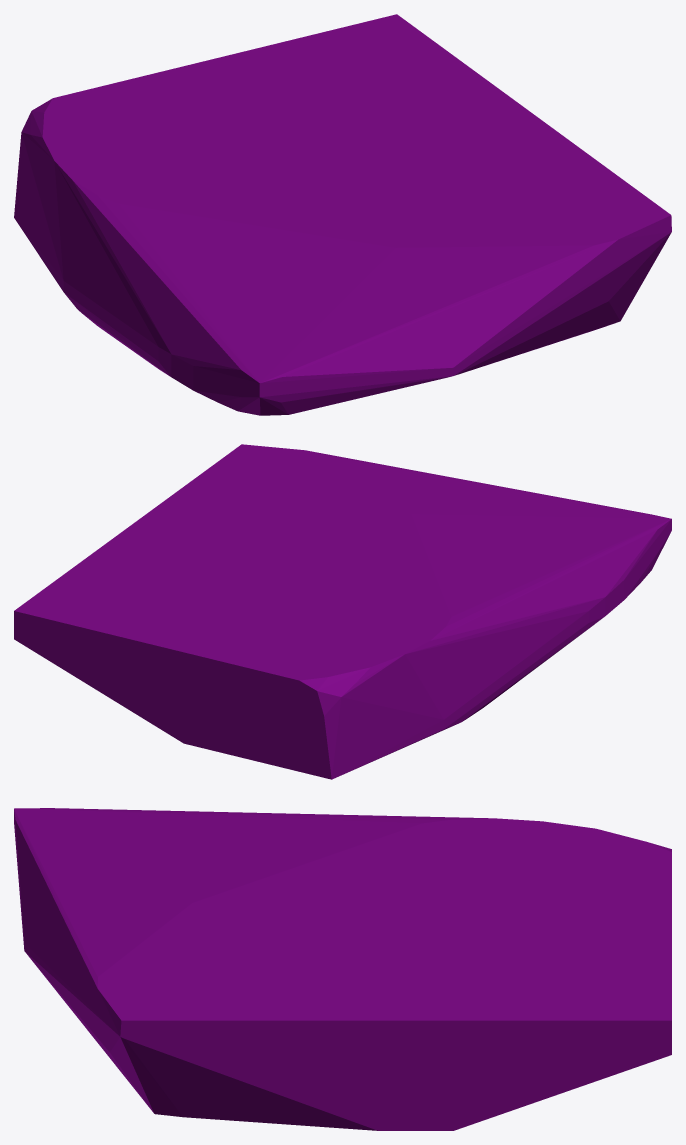
3 views of the same model, one above another, from view 1: azimuth 30°, elevation 25°; view 2: azimuth 150°, elevation 25°; view 3: azimuth 270°, elevation 25° (orthographic). The views are drawn at different scales.
Bounding box in the file's own units: 0.039 × 0.00873 × 0.0472.
